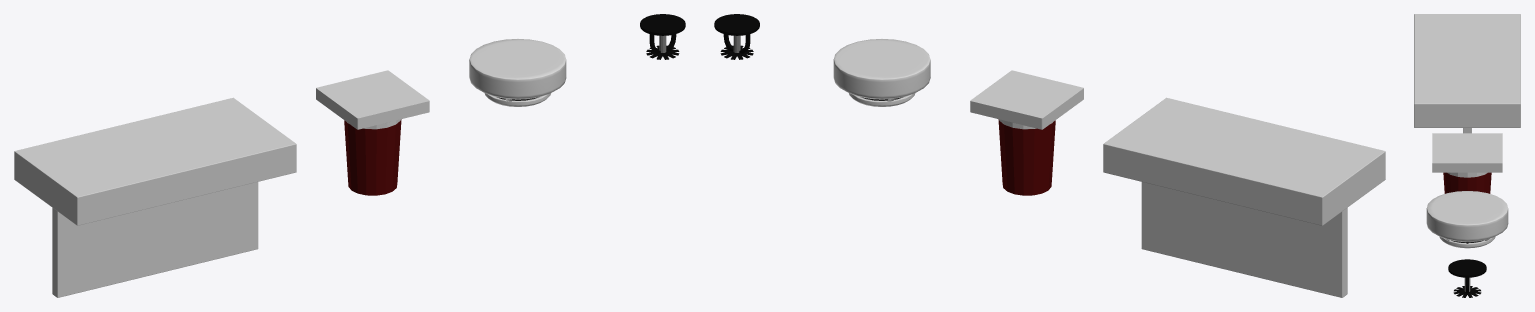
The picture shows the model from 3 angles, left to right: view 1: azimuth 30°, elevation 25°; view 2: azimuth 150°, elevation 25°; view 3: azimuth 270°, elevation 25°; orthographic projection. The views are drawn at different scales.
Visible parts, largest first — view 1: fire_system_04_001, fire_system_03_001, fire_system_01_001, fire_system_02_001; view 2: fire_system_04_001, fire_system_03_001, fire_system_01_001, fire_system_02_001; view 3: fire_system_04_001, fire_system_01_001, fire_system_03_001, fire_system_02_001.
Boxes of the visible parts, x1=… form: fire_system_04_001: x1=14, y1=97, x2=296, y2=297; fire_system_03_001: x1=316, y1=70, x2=429, y2=195; fire_system_01_001: x1=469, y1=39, x2=566, y2=106; fire_system_02_001: x1=640, y1=14, x2=685, y2=59; fire_system_04_001: x1=1103, y1=97, x2=1385, y2=297; fire_system_03_001: x1=970, y1=70, x2=1083, y2=195; fire_system_01_001: x1=833, y1=39, x2=930, y2=106; fire_system_02_001: x1=714, y1=14, x2=759, y2=59; fire_system_04_001: x1=1414, y1=14, x2=1520, y2=133; fire_system_01_001: x1=1426, y1=191, x2=1508, y2=248; fire_system_03_001: x1=1432, y1=133, x2=1502, y2=193; fire_system_02_001: x1=1448, y1=259, x2=1486, y2=297.
Size of the model in its own units: 34.59 by 6.46 by 5.96.
